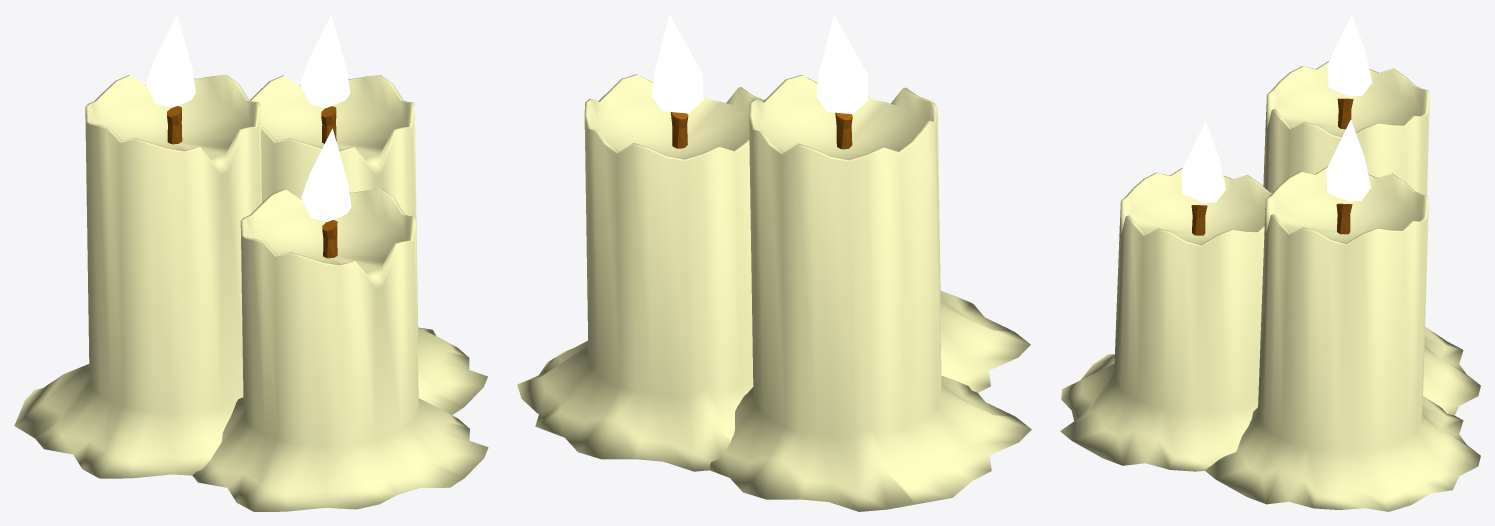
File: velas_6.gltf
3 renders of one model, left to right at view 1: azimuth 30°, elevation 25°; view 2: azimuth 150°, elevation 25°; view 3: azimuth 270°, elevation 25°, orthographic. The views are drawn at different scales.
Parts seen in each view (by area): view 1: Cylinder.006, Cylinder.012, Cylinder.011; view 2: Cylinder.006, Cylinder.011, Cylinder.012; view 3: Cylinder.011, Cylinder.012, Cylinder.006.
Boxes of the visible parts, x1,y1,x2,y2 form: Cylinder.006: [14, 14, 261, 478]; Cylinder.012: [192, 128, 488, 511]; Cylinder.011: [250, 14, 487, 414]; Cylinder.006: [709, 15, 1031, 511]; Cylinder.011: [517, 14, 764, 471]; Cylinder.012: [802, 15, 1030, 392]; Cylinder.011: [1205, 119, 1480, 511]; Cylinder.012: [1060, 121, 1271, 471]; Cylinder.006: [1263, 14, 1480, 415].
Bounding box in the file's own units: 2.42 × 2.23 × 2.27.
